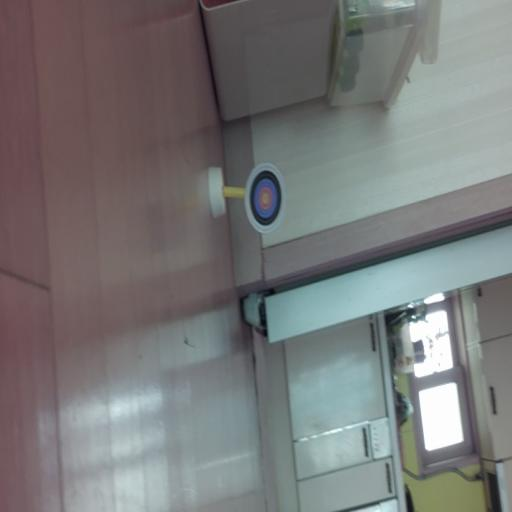target: (244, 164, 286, 233)
